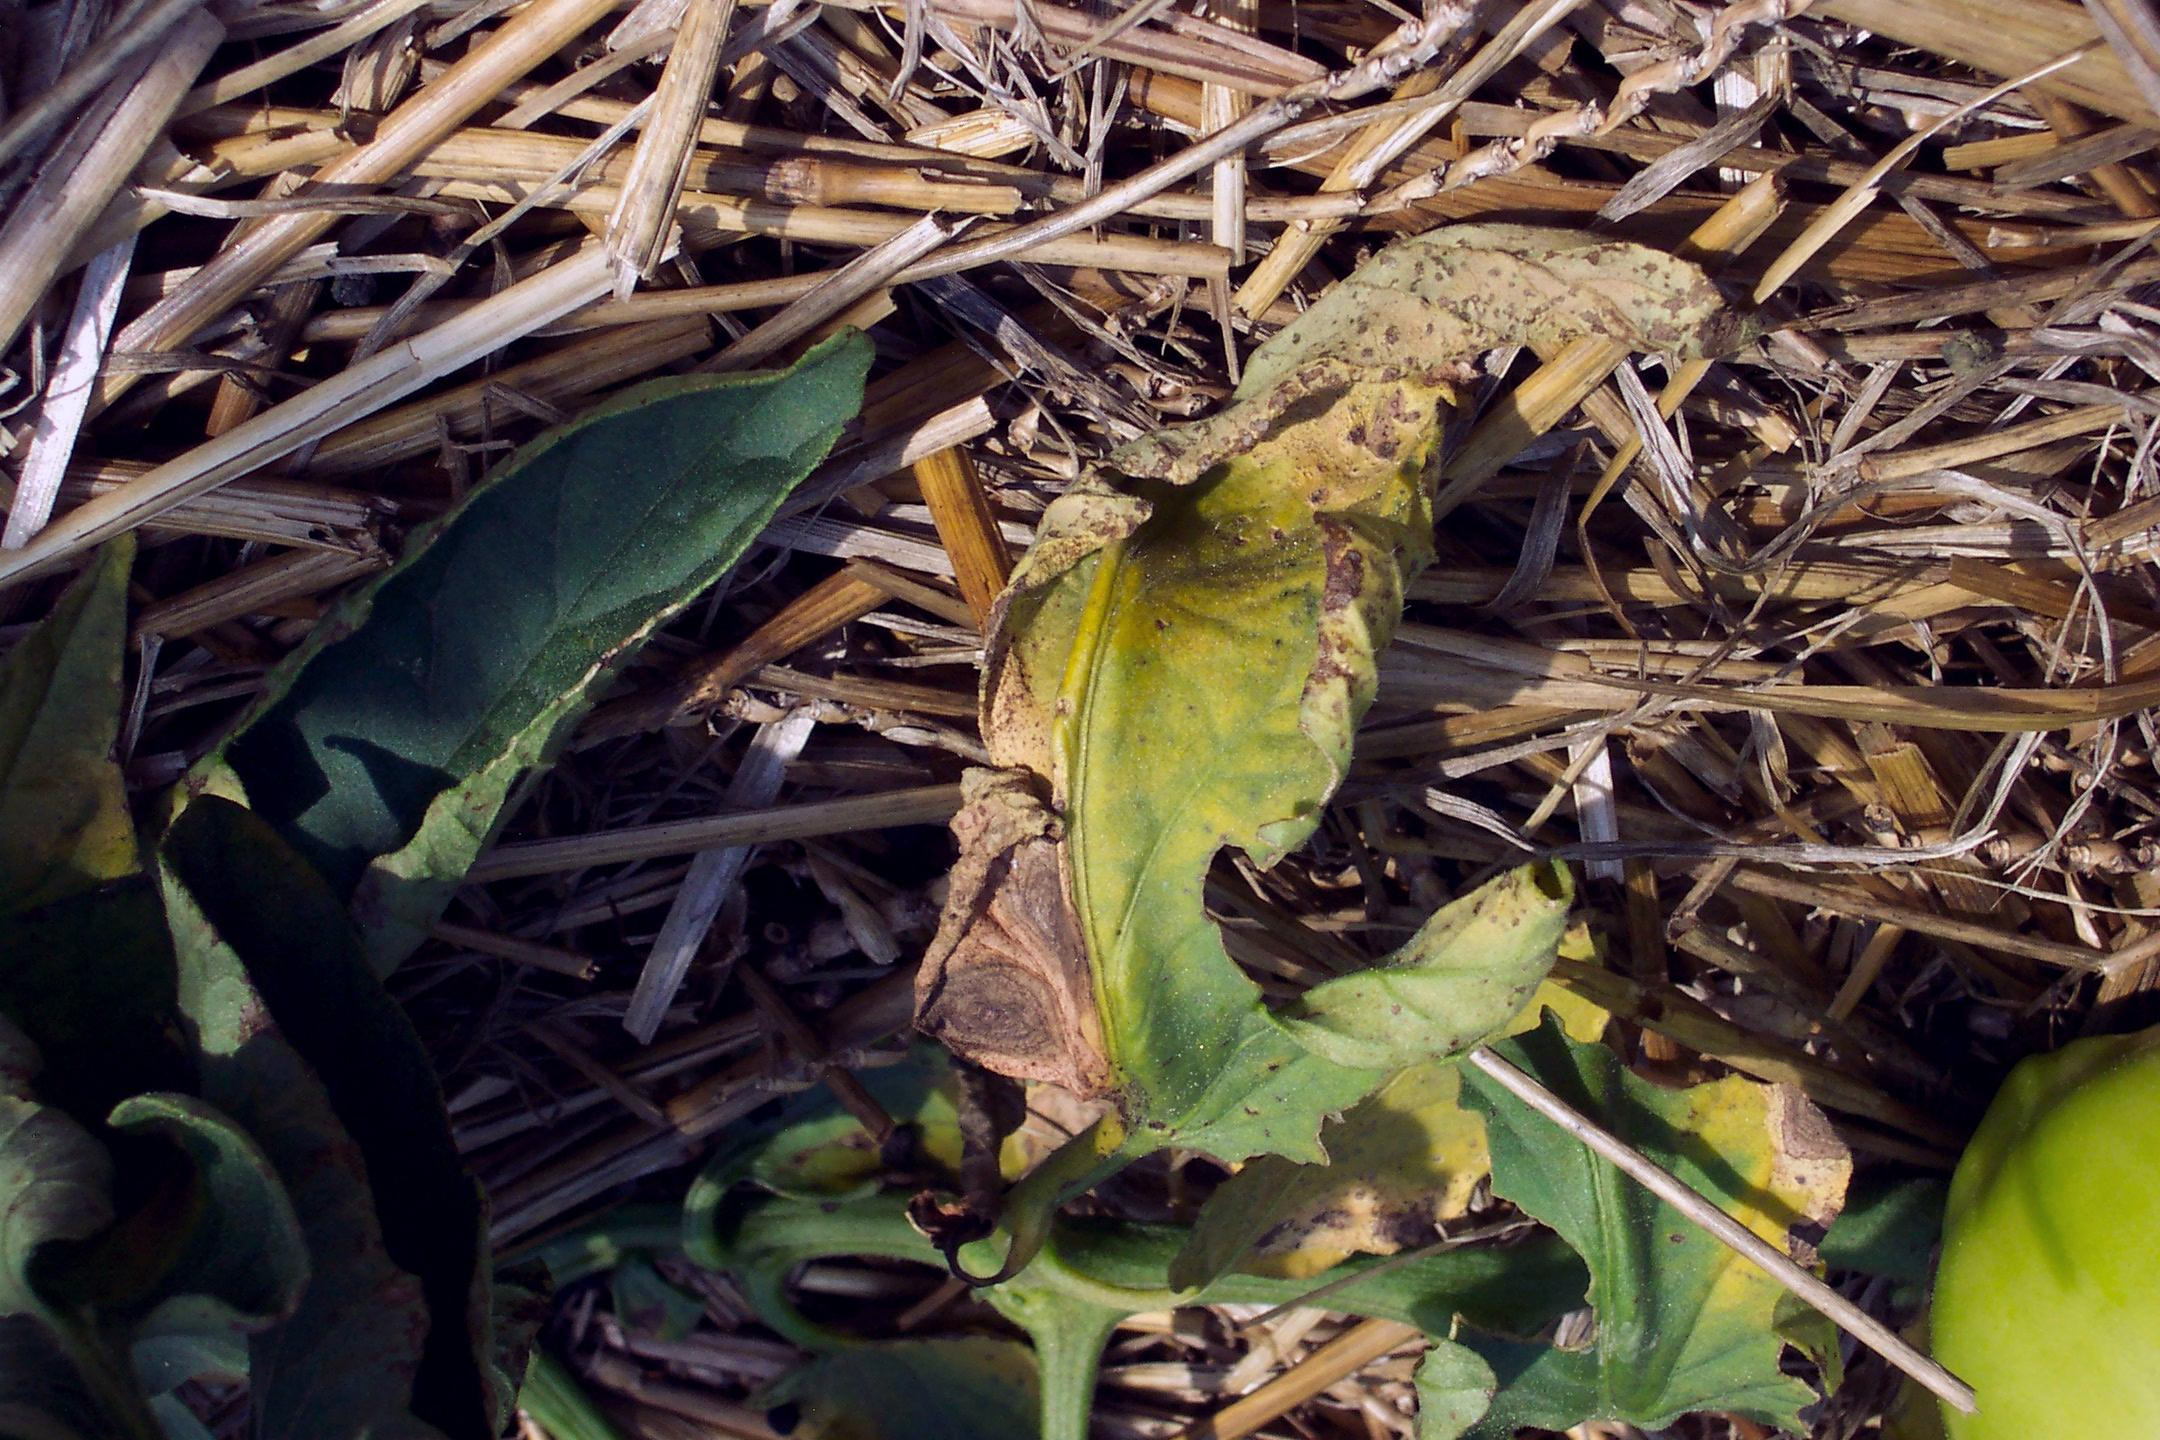Tomato Early blight leaf: (882, 231, 1718, 1223)
